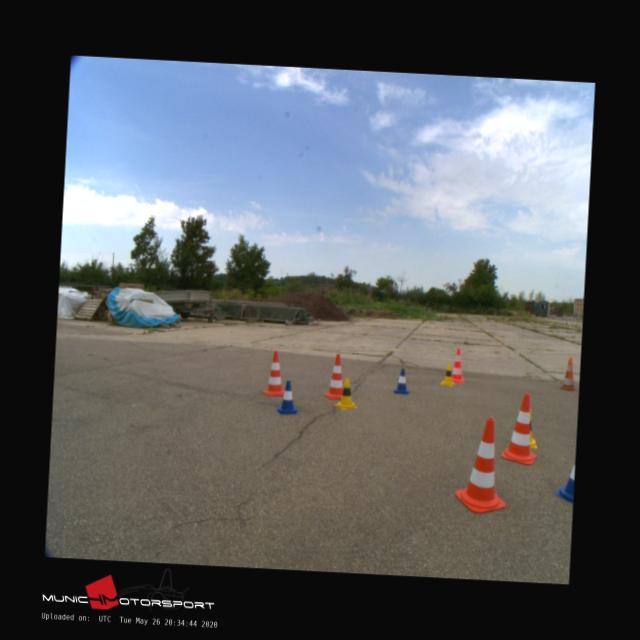blue_cone: (278, 381, 298, 414), (394, 368, 410, 394)
large_orange_cone: (454, 416, 510, 513), (502, 392, 538, 464), (323, 354, 348, 399), (262, 350, 286, 396), (450, 349, 466, 382), (560, 357, 576, 390)
yellow_cone: (335, 378, 356, 408), (440, 364, 455, 384)
